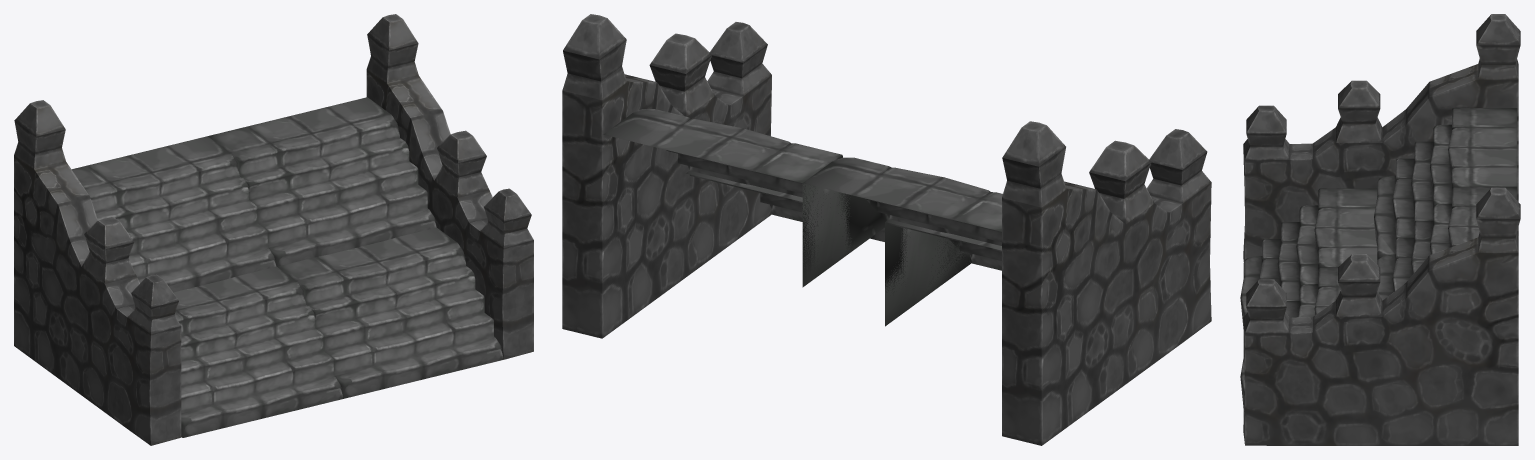
3 views of the same model, side by side, from view 1: azimuth 30°, elevation 25°; view 2: azimuth 150°, elevation 25°; view 3: azimuth 270°, elevation 25° (orthographic). The views are drawn at different scales.
Parts seen in each view (by area): view 1: Stair Rail type C, Stairs.004, Stairs.006, Stair Rail type C.001, Stairs.003, Stairs.005; view 2: Stair Rail type C, Stair Rail type C.001, Stairs.006, Stairs.005, Stairs.004, Stairs.003; view 3: Stair Rail type C.001, Stair Rail type C, Stairs.005, Stairs.003, Stairs.006, Stairs.004.
Boxes of the visible parts, <box> form: Stair Rail type C: <box>14,100,181,445</box>; Stairs.004: <box>277,227,503,398</box>; Stairs.006: <box>208,97,436,266</box>; Stair Rail type C.001: <box>366,14,533,359</box>; Stairs.003: <box>173,266,342,437</box>; Stairs.005: <box>71,136,276,292</box>; Stair Rail type C: <box>1002,121,1211,445</box>; Stair Rail type C.001: <box>562,14,771,338</box>; Stairs.006: <box>603,109,870,283</box>; Stairs.005: <box>802,157,1002,287</box>; Stairs.004: <box>686,170,971,326</box>; Stairs.003: <box>885,219,1001,292</box>; Stair Rail type C.001: <box>1243,187,1520,445</box>; Stair Rail type C: <box>1243,14,1520,261</box>; Stairs.005: <box>1374,108,1517,260</box>; Stairs.003: <box>1240,188,1377,341</box>; Stairs.006: <box>1377,186,1517,300</box>; Stairs.004: <box>1240,267,1340,417</box>.
Size of the model in its own units: 960 by 585 by 600.
2 materials, 2 textured.
